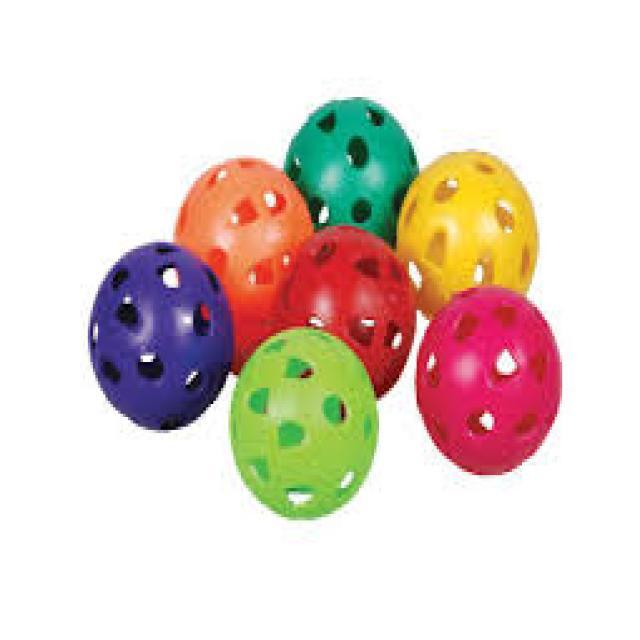hard-toy: (90, 99, 562, 519)
